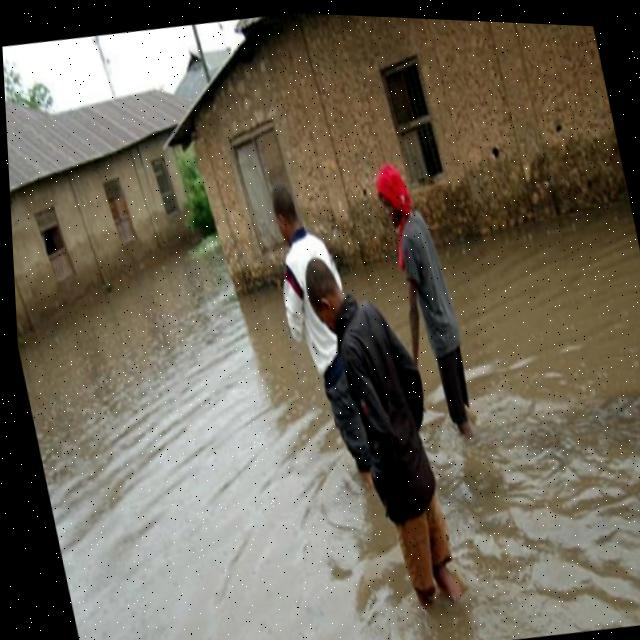civilian: (289, 237, 505, 640), (356, 146, 516, 466), (250, 174, 400, 492)
